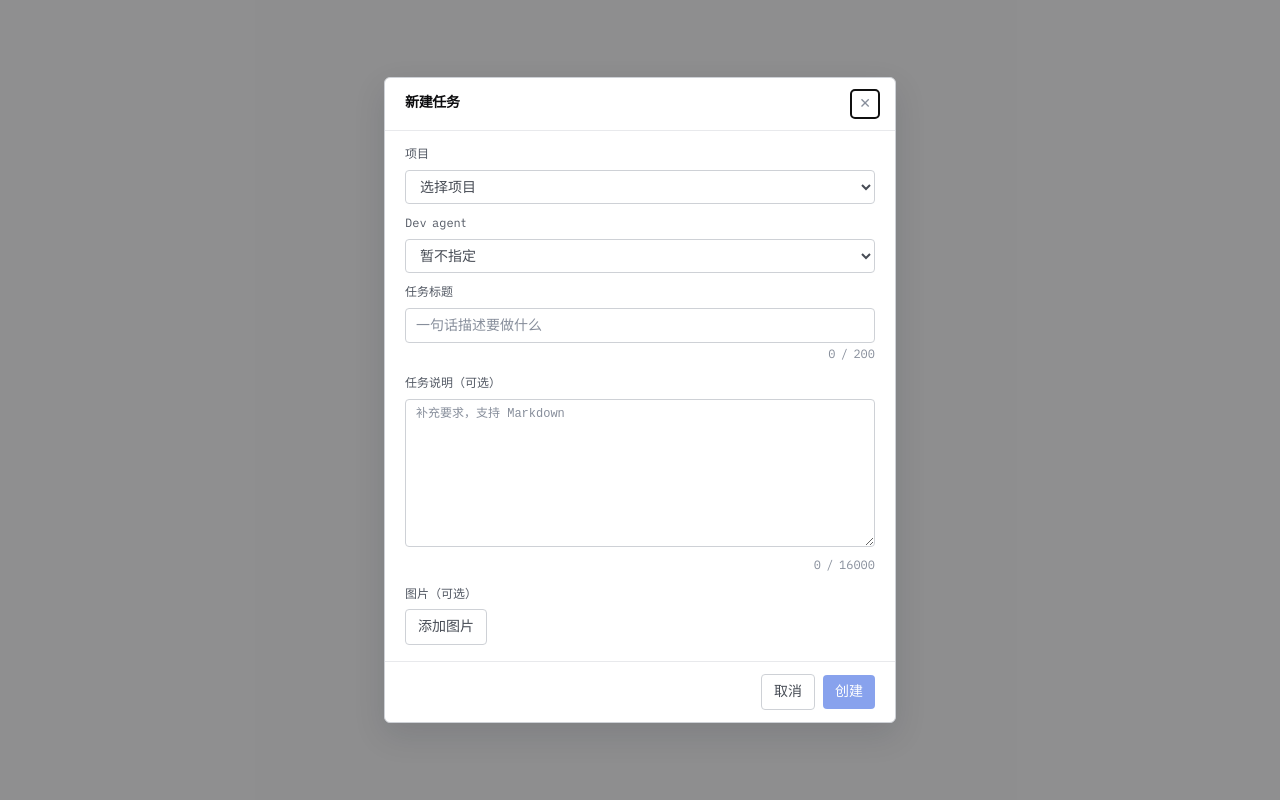
Test case: uses localized task fields and explains an unavailable agent in zh-CN
Select "baxian" in the dropdown labelled "项目" at point(640, 187), box [405, 170, 875, 204]
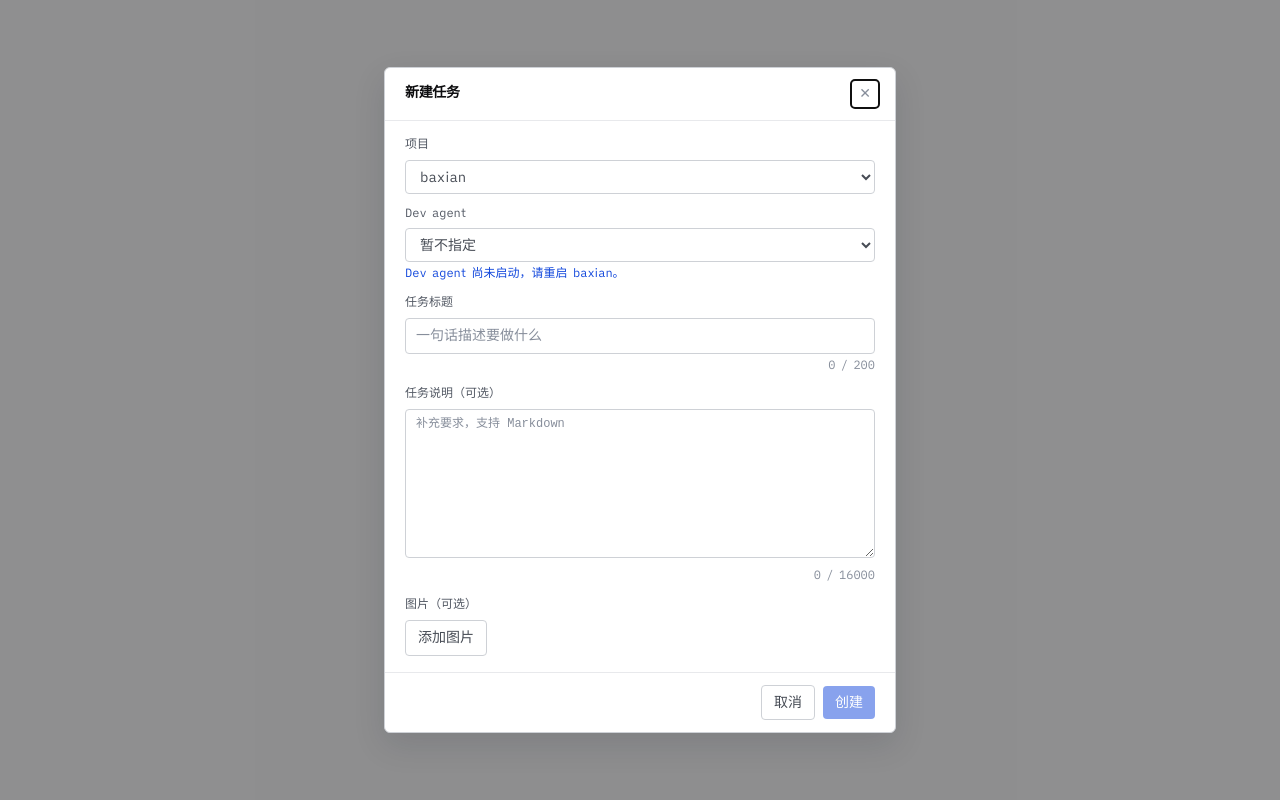
Expected: the field labelled "任务标题" is shown, [405, 318, 875, 354]
Expected: the text "Dev agent 尚未启动，请重启 baxian。" is shown, [405, 266, 625, 281]
